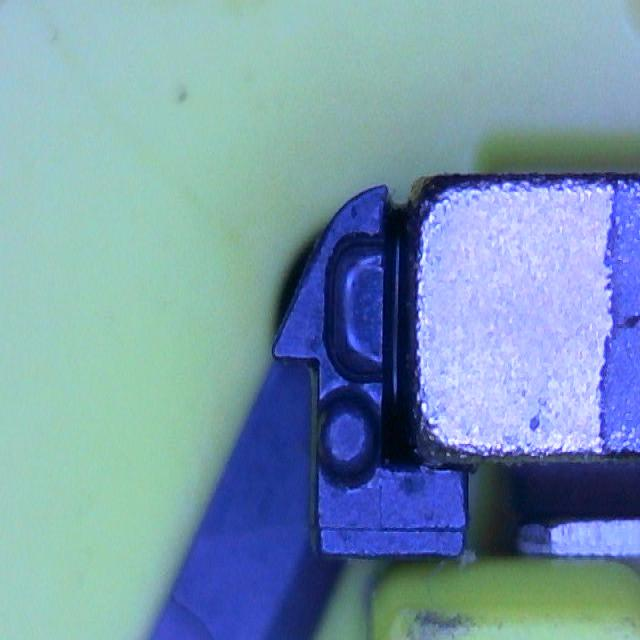good: (326, 230, 394, 387)
